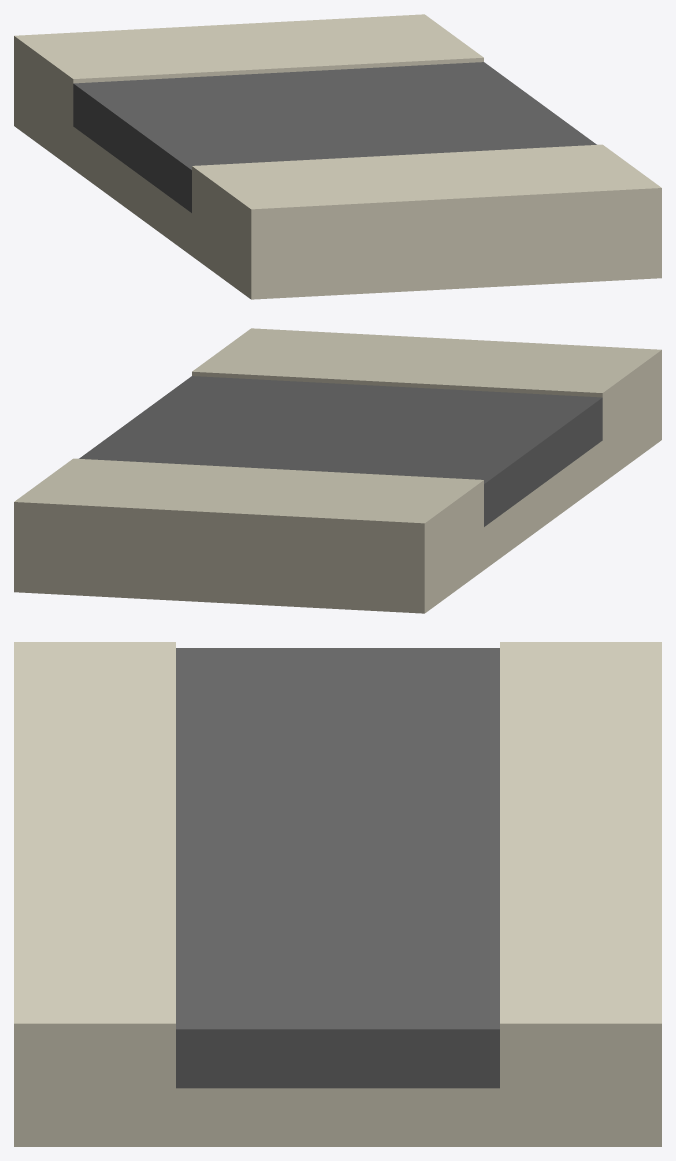
File: roadTile_240.fbx
3 views of the same model, one above another, from view 1: azimuth 30°, elevation 25°; view 2: azimuth 150°, elevation 25°; view 3: azimuth 270°, elevation 25° (orthographic). The views are drawn at different scales.
Visible parts, largest first — view 1: roadTile_240; view 2: roadTile_240; view 3: roadTile_240.
Part boxes in pixels (box(x1,y1,x2,y2)): roadTile_240: box(14, 14, 661, 299); roadTile_240: box(14, 328, 661, 613); roadTile_240: box(14, 642, 661, 1146).
Bounding box in the file's own units: 118 × 46.46 × 118.
